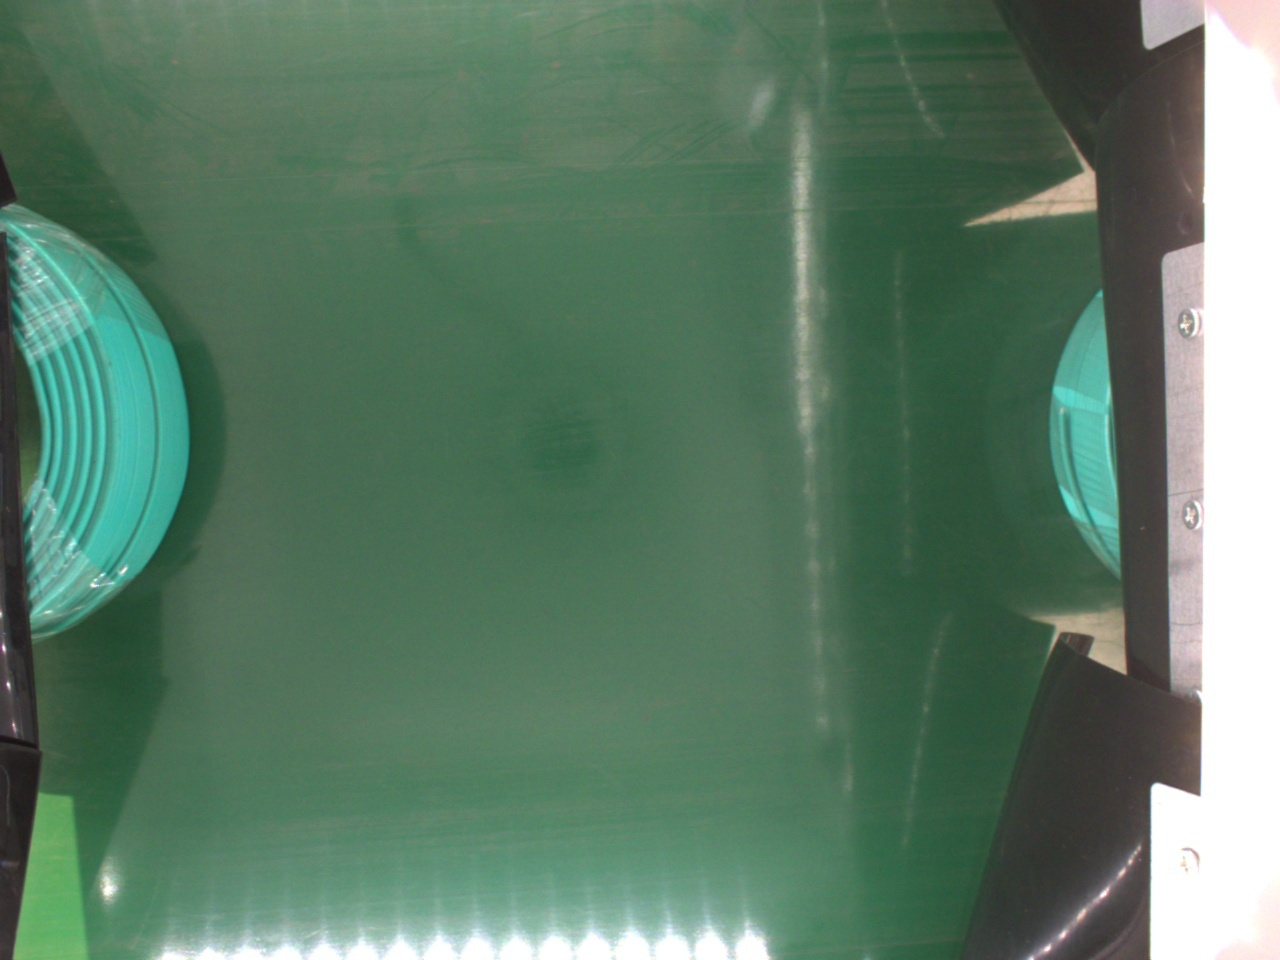green: (9, 199, 188, 631)
